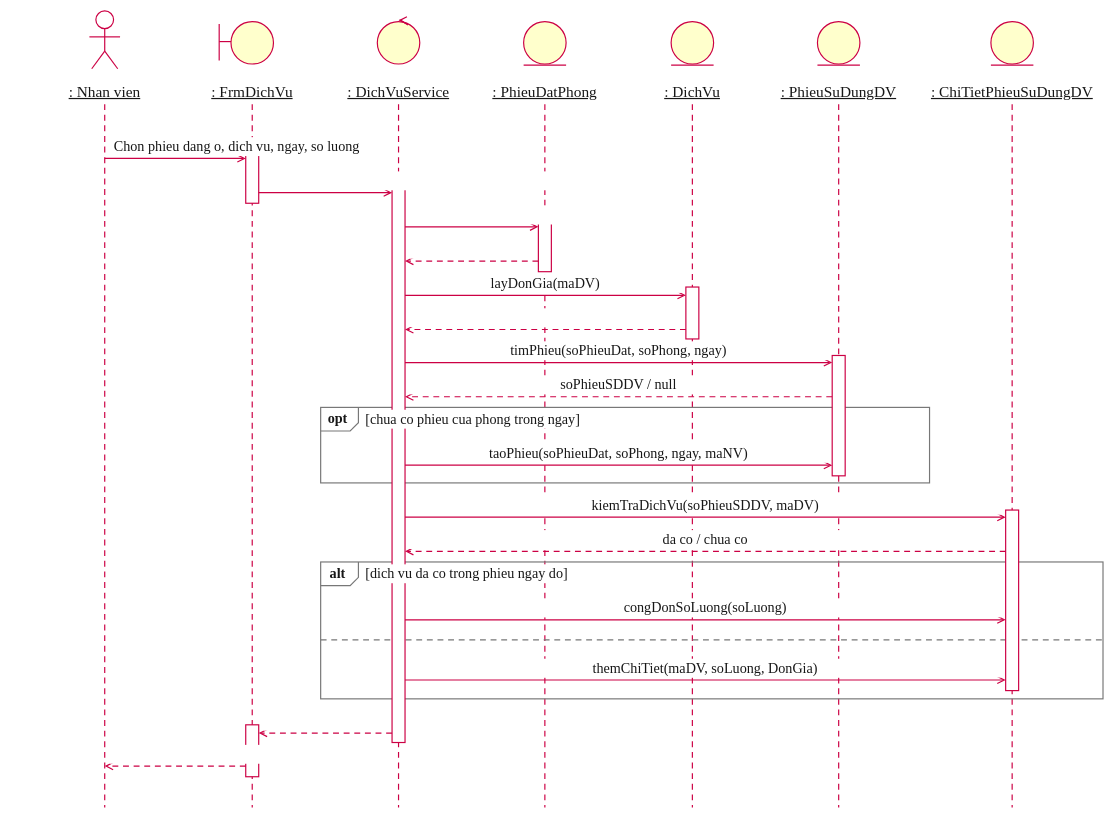
Some shapes in this 1116 by 818 pixel diagram are drawn without their labels. Each missing label, with the box of its shape:
"Dang o": (409, 240, 533, 258)
[chua co]: (327, 643, 391, 662)
DonGia: (409, 308, 681, 327)
GhiNhan(soPhieuDat, soPhong, ngay, maNV, maDV, soLuong): (263, 171, 634, 190)
Hien thi lich su, thanh tien: (109, 745, 268, 763)
KetQuaXuLy.Ok: (263, 712, 387, 730)
layTrangThai(soPhieuDat): (409, 205, 570, 224)
